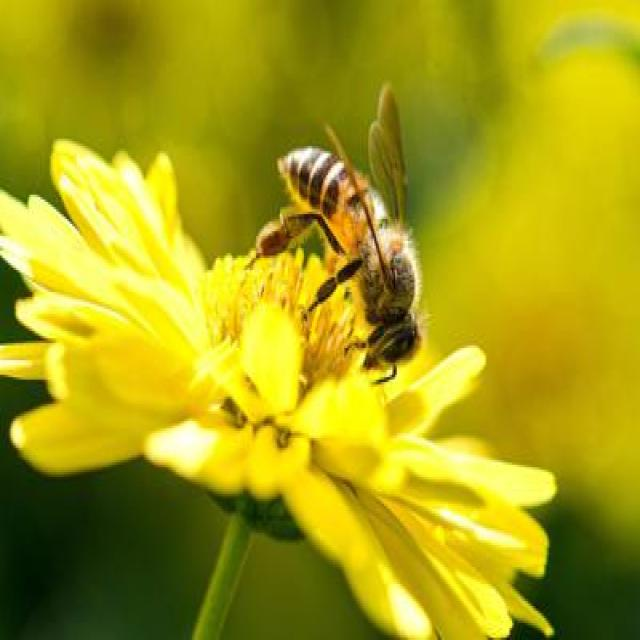antennae: (368, 358, 398, 387)
body: (275, 146, 423, 370)
insect: (238, 82, 426, 388)
legs: (245, 208, 344, 274), (303, 250, 366, 319), (338, 322, 386, 358)
mouthpart: (362, 349, 378, 373)
wings: (326, 119, 386, 283), (368, 82, 414, 248)
